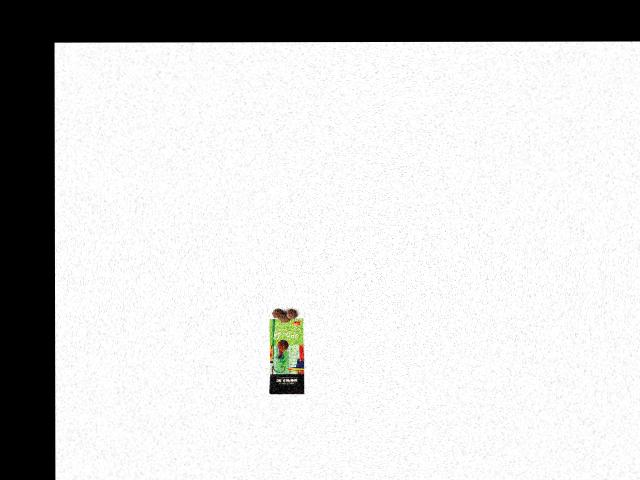chocolate: (260, 317, 309, 397)
